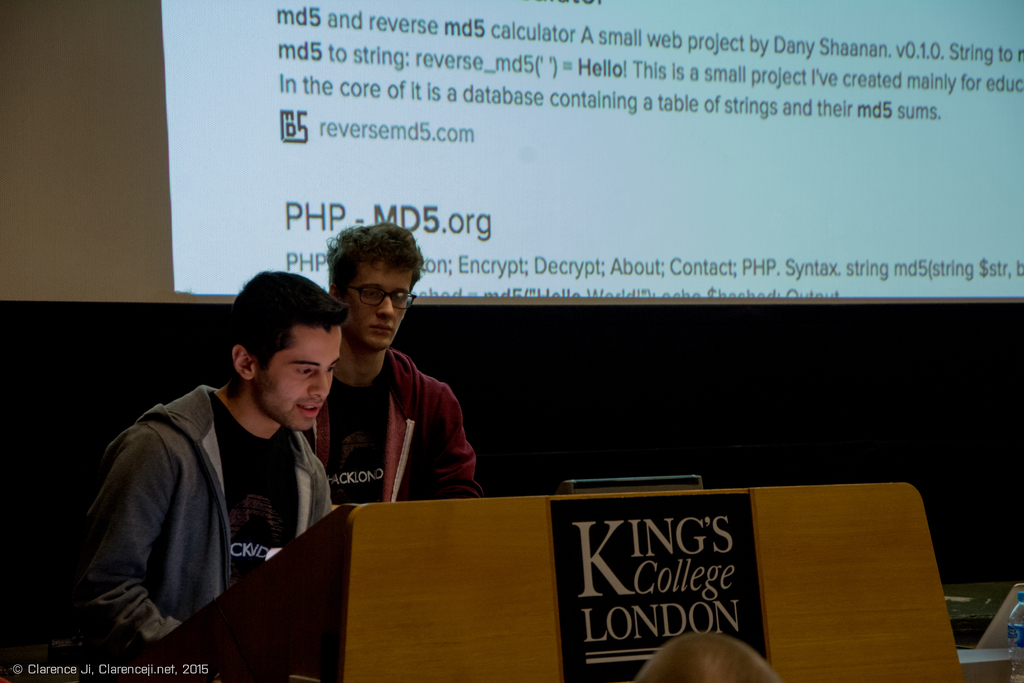Person: (633, 632, 780, 682)
